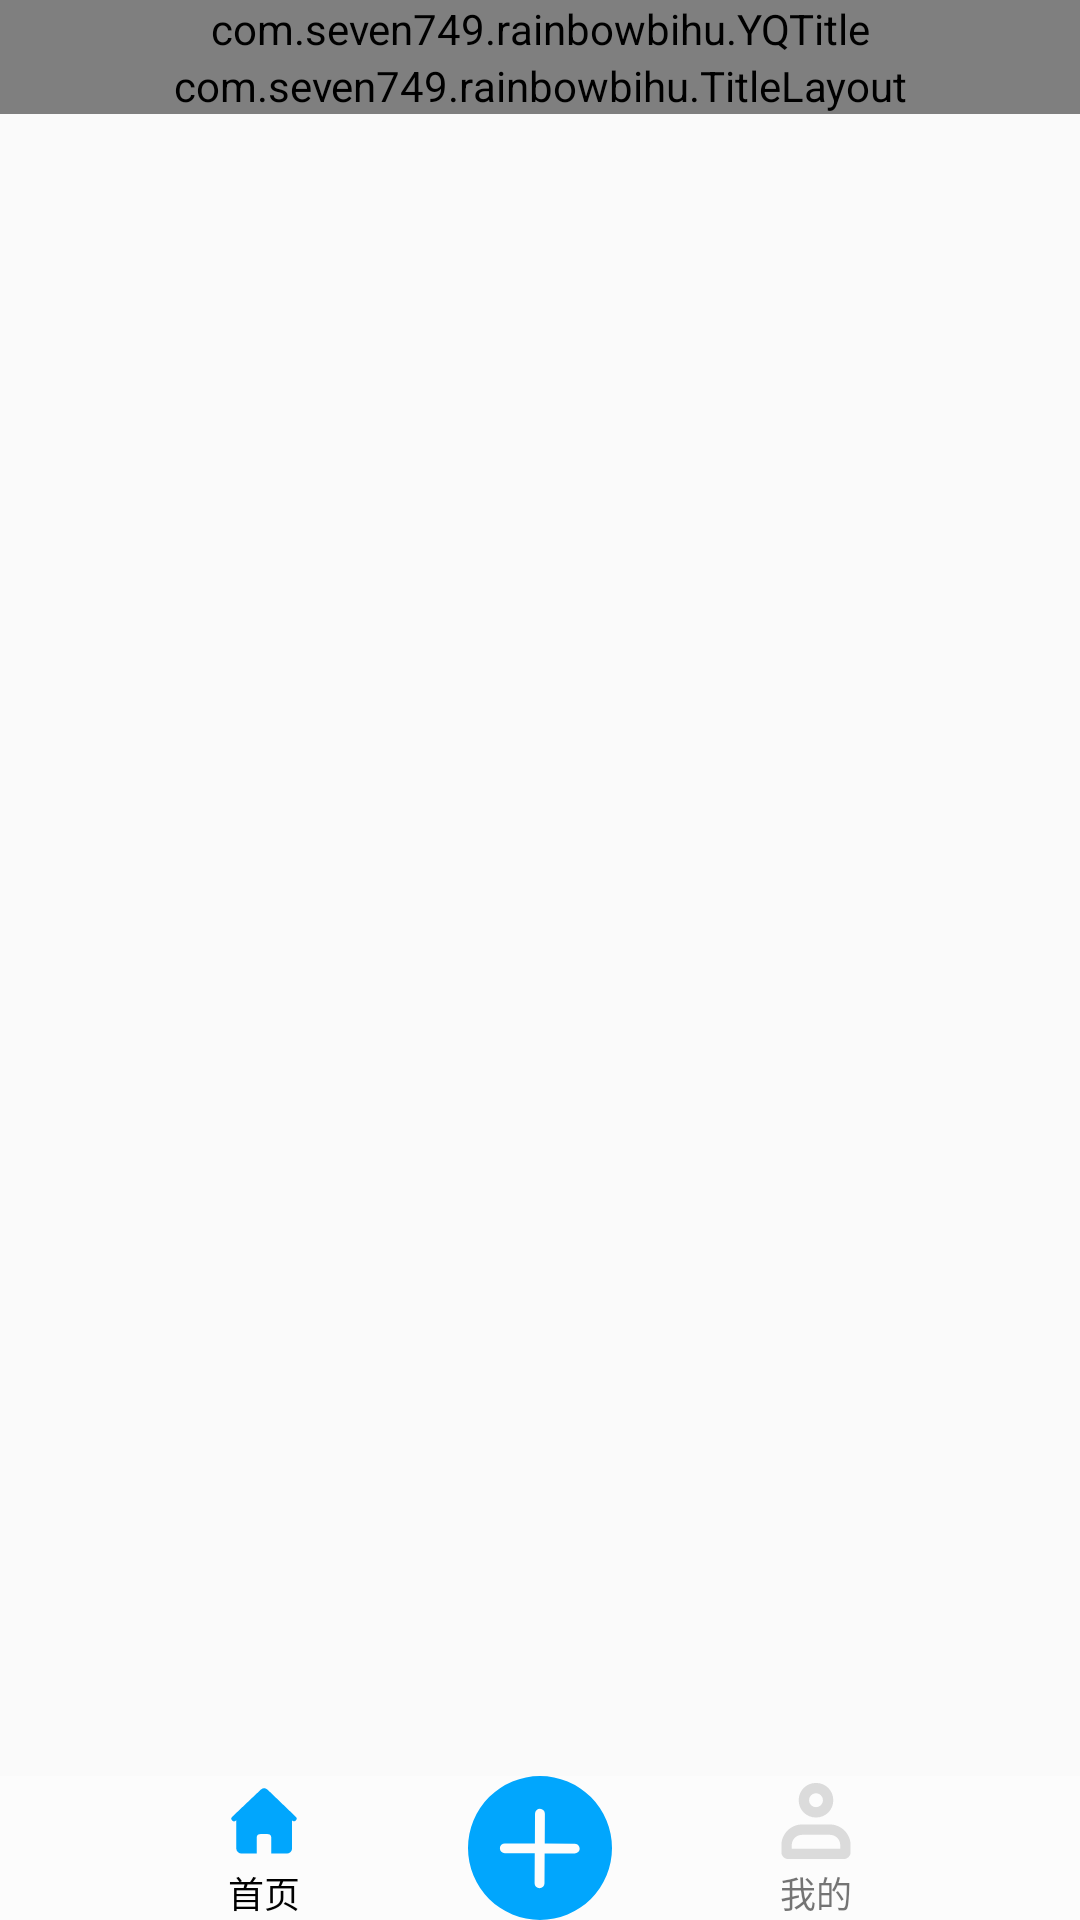

Icon click points for this 1080 x 1920 phone screenshot, format (x,y):
add question: (540,1848)
